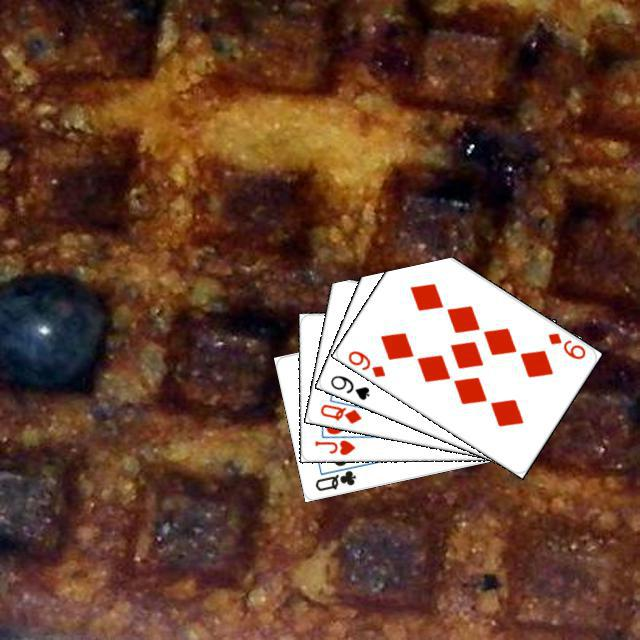9d: (343, 345, 387, 379), (543, 328, 587, 361)
9s: (325, 370, 371, 402)
Jh: (310, 435, 357, 456)
Qc: (310, 460, 360, 493)
Qd: (315, 399, 363, 425)
